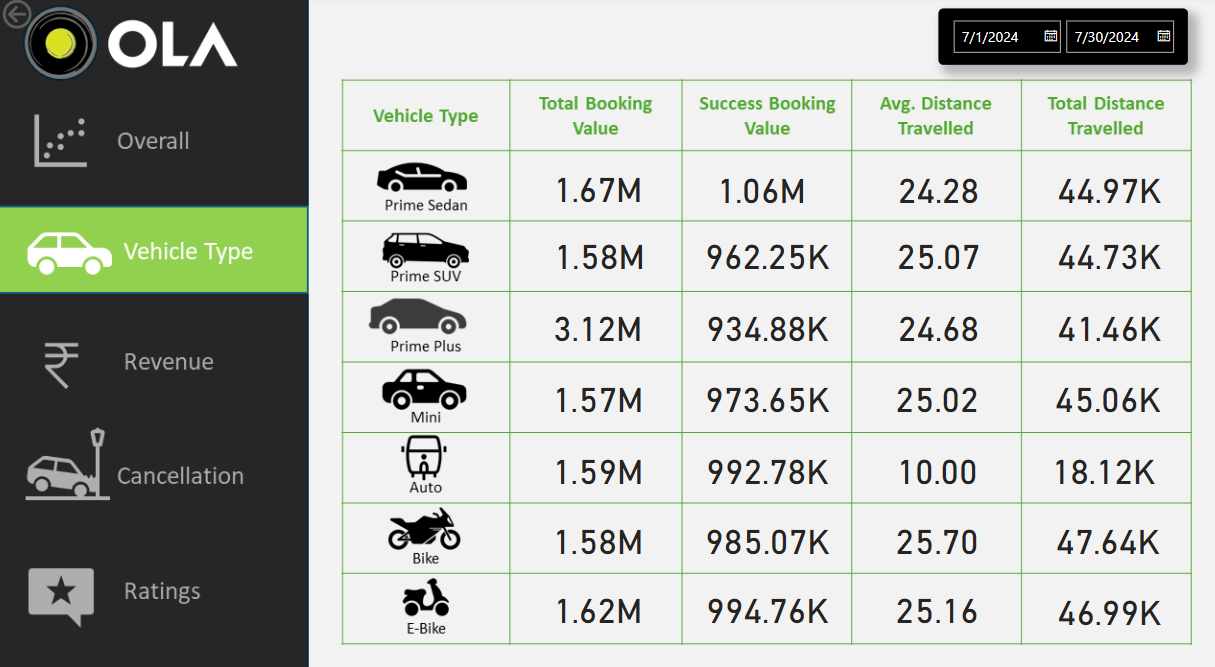

This screenshot's page, from the dashboard's own definition file:
{"tool":"powerbi","page":{"name":"Vehicle type","canvas":[1280,720],"ordinal":1},"visuals":[{"type":"actionButton","box":[0,106.2,322.5,92.5],"z":0},{"type":"actionButton","box":[0,447.5,322.5,92.5],"z":1000},{"type":"actionButton","box":[10,337.5,322.5,92.5],"z":2000},{"type":"actionButton","box":[0,578.8,322.5,92.5],"z":3000},{"type":"card","fields":{"Values":["Sum(July.Booking_Value)"]},"box":[541.7,165,165,66.7],"z":4000},{"type":"card","fields":{"Values":["Sum(July.Booking_Value)"]},"box":[543.3,236.7,165,66.7],"z":5000},{"type":"card","fields":{"Values":["Sum(July.Booking_Value)"]},"box":[541.7,311.7,165,66.7],"z":6000},{"type":"card","fields":{"Values":["Sum(July.Booking_Value)"]},"box":[541.7,385,165,66.7],"z":7000},{"type":"card","fields":{"Values":["Sum(July.Booking_Value)"]},"box":[541.7,460,165,66.7],"z":8000},{"type":"card","fields":{"Values":["Sum(July.Booking_Value)"]},"box":[541.7,533.3,165,66.7],"z":9000},{"type":"card","fields":{"Values":["Sum(July.Booking_Value)"]},"box":[541.7,605,165,66.7],"z":10000},{"type":"card","fields":{"Values":["Sum(July.Booking_Value)"]},"box":[718.3,605,165,66.7],"z":11000},{"type":"card","fields":{"Values":["Sum(July.Booking_Value)"]},"box":[718.3,236.7,165,66.7],"z":12000},{"type":"card","fields":{"Values":["Sum(July.Booking_Value)"]},"box":[718.3,311.7,165,66.7],"z":13000},{"type":"card","fields":{"Values":["Sum(July.Booking_Value)"]},"box":[718.3,385,165,66.7],"z":14000},{"type":"card","fields":{"Values":["Sum(July.Booking_Value)"]},"box":[718.3,460,165,66.7],"z":15000},{"type":"card","fields":{"Values":["Sum(July.Booking_Value)"]},"box":[718.3,533.3,165,66.7],"z":16000},{"type":"card","fields":{"Values":["Sum(July.Booking_Value)"]},"box":[713.3,166.7,165,66.7],"z":17000},{"type":"card","fields":{"Values":["Avg(July.Ride_Distance)"]},"box":[896.7,166.7,165,66.7],"z":18000},{"type":"actionButton","box":[0,0,100,40],"z":19000},{"type":"card","fields":{"Values":["Avg(July.Ride_Distance)"]},"box":[896.7,236.7,165,66.7],"z":20000},{"type":"card","fields":{"Values":["Avg(July.Ride_Distance)"]},"box":[896.7,311.7,165,66.7],"z":21000},{"type":"card","fields":{"Values":["Avg(July.Ride_Distance)"]},"box":[895,385,165,66.7],"z":22000},{"type":"card","fields":{"Values":["Avg(July.Ride_Distance)"]},"box":[895,460,165,66.7],"z":23000},{"type":"card","fields":{"Values":["Avg(July.Ride_Distance)"]},"box":[895,533.3,165,66.7],"z":24000},{"type":"card","fields":{"Values":["Avg(July.Ride_Distance)"]},"box":[895,605,165,66.7],"z":25000},{"type":"card","fields":{"Values":["Sum(July.Ride_Distance)"]},"box":[1075,166.7,165,66.7],"z":26000},{"type":"card","fields":{"Values":["Sum(July.Ride_Distance)"]},"box":[1075,236.7,165,66.7],"z":27000},{"type":"card","fields":{"Values":["Sum(July.Ride_Distance)"]},"box":[1075,311.7,165,66.7],"z":28000},{"type":"card","fields":{"Values":["Sum(July.Ride_Distance)"]},"box":[1073.3,385,165,66.7],"z":29000},{"type":"card","fields":{"Values":["Sum(July.Ride_Distance)"]},"box":[1068.3,460,165,66.7],"z":30000},{"type":"card","fields":{"Values":["Sum(July.Ride_Distance)"]},"box":[1073.3,533.3,165,66.7],"z":31000},{"type":"card","fields":{"Values":["Sum(July.Ride_Distance)"]},"box":[1075,606.7,165,66.7],"z":32000},{"type":"slicer","title":"Date","fields":{"Values":["July.Date"]},"box":[980,13.3,260,58.3],"z":33000}]}

Visuals, with their boxes on the page's 1280x720 design canvas (x1, y1, x2, y2). These are canvas units, not pixel positions in the 1215x667 screenshot, which may show the page scaled, cropped or inside an application window:
actionButton: left=0, top=106, right=322, bottom=199
actionButton: left=0, top=448, right=322, bottom=540
actionButton: left=10, top=338, right=332, bottom=430
actionButton: left=0, top=579, right=322, bottom=671
card - Sum(July.Booking_Value): left=542, top=165, right=707, bottom=232
card - Sum(July.Booking_Value): left=543, top=237, right=708, bottom=303
card - Sum(July.Booking_Value): left=542, top=312, right=707, bottom=378
card - Sum(July.Booking_Value): left=542, top=385, right=707, bottom=452
card - Sum(July.Booking_Value): left=542, top=460, right=707, bottom=527
card - Sum(July.Booking_Value): left=542, top=533, right=707, bottom=600
card - Sum(July.Booking_Value): left=542, top=605, right=707, bottom=672
card - Sum(July.Booking_Value): left=718, top=605, right=883, bottom=672
card - Sum(July.Booking_Value): left=718, top=237, right=883, bottom=303
card - Sum(July.Booking_Value): left=718, top=312, right=883, bottom=378
card - Sum(July.Booking_Value): left=718, top=385, right=883, bottom=452
card - Sum(July.Booking_Value): left=718, top=460, right=883, bottom=527
card - Sum(July.Booking_Value): left=718, top=533, right=883, bottom=600
card - Sum(July.Booking_Value): left=713, top=167, right=878, bottom=233
card - Avg(July.Ride_Distance): left=897, top=167, right=1062, bottom=233
actionButton: left=0, top=0, right=100, bottom=40
card - Avg(July.Ride_Distance): left=897, top=237, right=1062, bottom=303
card - Avg(July.Ride_Distance): left=897, top=312, right=1062, bottom=378
card - Avg(July.Ride_Distance): left=895, top=385, right=1060, bottom=452
card - Avg(July.Ride_Distance): left=895, top=460, right=1060, bottom=527
card - Avg(July.Ride_Distance): left=895, top=533, right=1060, bottom=600
card - Avg(July.Ride_Distance): left=895, top=605, right=1060, bottom=672
card - Sum(July.Ride_Distance): left=1075, top=167, right=1240, bottom=233
card - Sum(July.Ride_Distance): left=1075, top=237, right=1240, bottom=303
card - Sum(July.Ride_Distance): left=1075, top=312, right=1240, bottom=378
card - Sum(July.Ride_Distance): left=1073, top=385, right=1238, bottom=452
card - Sum(July.Ride_Distance): left=1068, top=460, right=1233, bottom=527
card - Sum(July.Ride_Distance): left=1073, top=533, right=1238, bottom=600
card - Sum(July.Ride_Distance): left=1075, top=607, right=1240, bottom=673
"Date" slicer: left=980, top=13, right=1240, bottom=72
